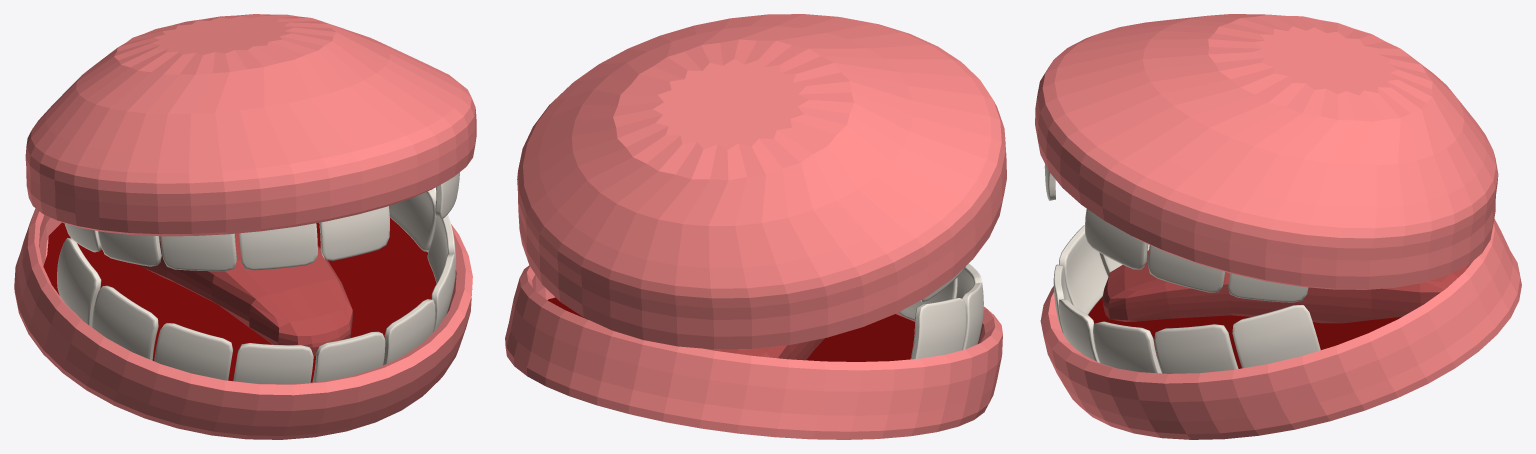
File: mouth.fbx
3 renders of one model, left to right at view 1: azimuth 30°, elevation 25°; view 2: azimuth 150°, elevation 25°; view 3: azimuth 270°, elevation 25°, orthographic. The views are drawn at different scales.
Parts seen in each view (by area): view 1: gums, teeth, inside, tongue; view 2: gums, teeth, inside, tongue; view 3: gums, teeth, tongue, inside.
Boxes of the visible parts, x1,y1,x2,y2 form: gums: (14, 14, 476, 439); teeth: (57, 172, 459, 384); inside: (43, 217, 436, 382); tongue: (140, 233, 352, 356); gums: (505, 14, 1006, 439); teeth: (899, 263, 983, 359); inside: (547, 297, 914, 361); tongue: (704, 338, 824, 360); gums: (1035, 14, 1521, 439); teeth: (1044, 164, 1320, 373); tongue: (1102, 250, 1472, 323); inside: (1088, 297, 1401, 368).
Size of the model in its own units: 2.56 by 1.99 by 2.65.
